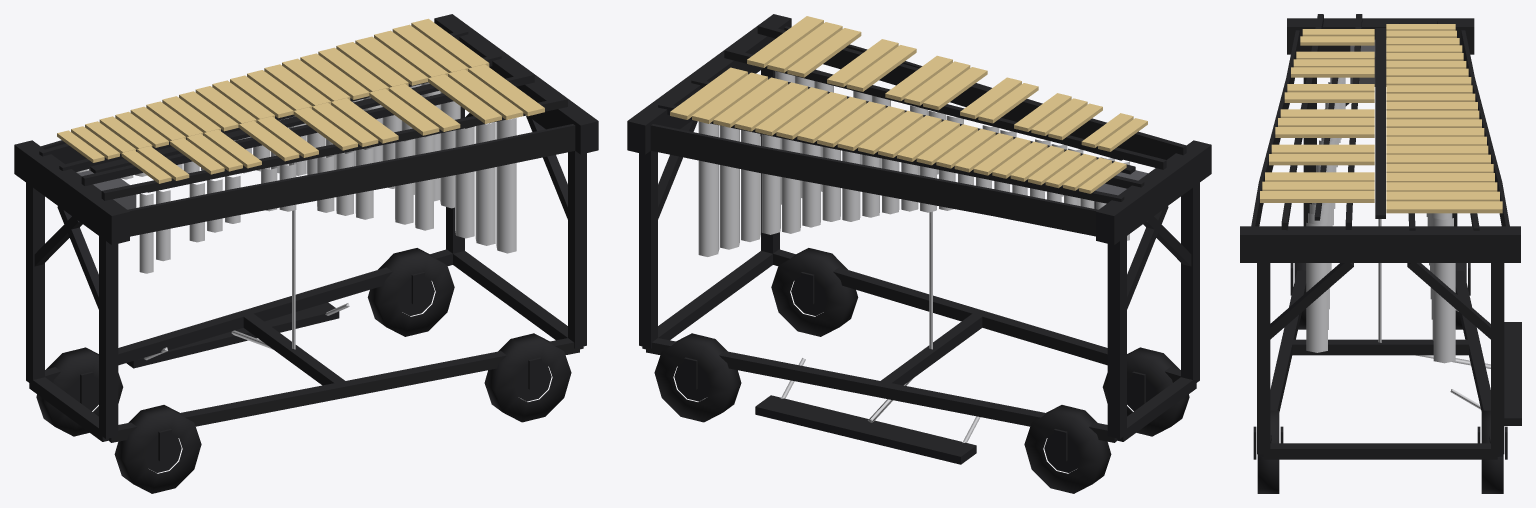
The model's file is vibraphone-3.0-gold-low.glb.
3 views of the same model, side by side, from view 1: azimuth 30°, elevation 25°; view 2: azimuth 150°, elevation 25°; view 3: azimuth 270°, elevation 25° (orthographic). The views are drawn at different scales.
Visible parts, largest first — view 1: frame, bars-gold, resonators-silver, artwork, metal; view 2: frame, bars-gold, resonators-silver, metal; view 3: frame, bars-gold, resonators-silver, metal, panel.
Boxes of the visible parts, box(x1,y1,x2,y2) form: frame: box(14, 14, 598, 493); bars-gold: box(57, 18, 544, 183); resonators-silver: box(76, 82, 516, 273); artwork: box(130, 125, 575, 236); metal: box(144, 126, 349, 360); frame: box(627, 14, 1211, 493); bars-gold: box(670, 16, 1147, 193); resonators-silver: box(698, 71, 1129, 256); metal: box(780, 211, 980, 442); frame: box(1240, 14, 1521, 493); bars-gold: box(1260, 24, 1502, 213); resonators-silver: box(1306, 77, 1455, 363); metal: box(1378, 219, 1490, 409); panel: box(1350, 40, 1386, 86).
Bounding box in the file's own units: 1.53 × 0.9719 × 0.8406.
